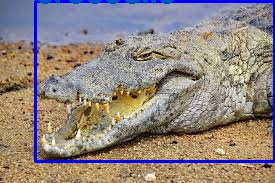crocodile: (34, 1, 273, 161)
